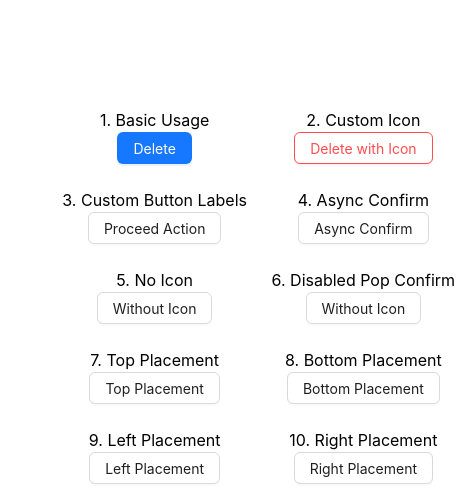
PopConfirm Showcase › Basic Functionality › should display the popconfirm popup on click
Click the button with test id "basic" at (154, 148), box [117,132,191,164]
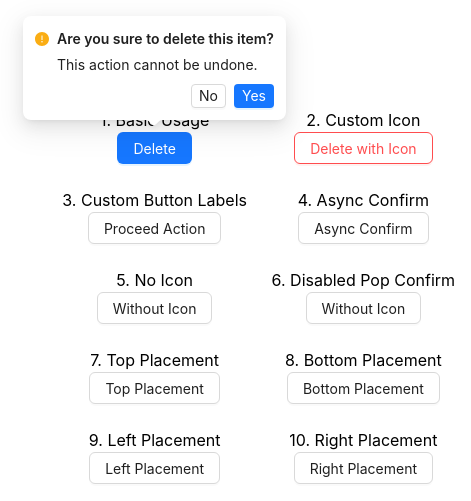
Check: the element that starts with "Are you sure to delete this item?" is shown, box [23,16,286,120]
